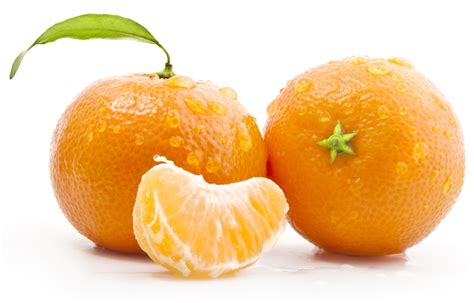orange: (263, 51, 469, 259), (46, 71, 265, 253)
